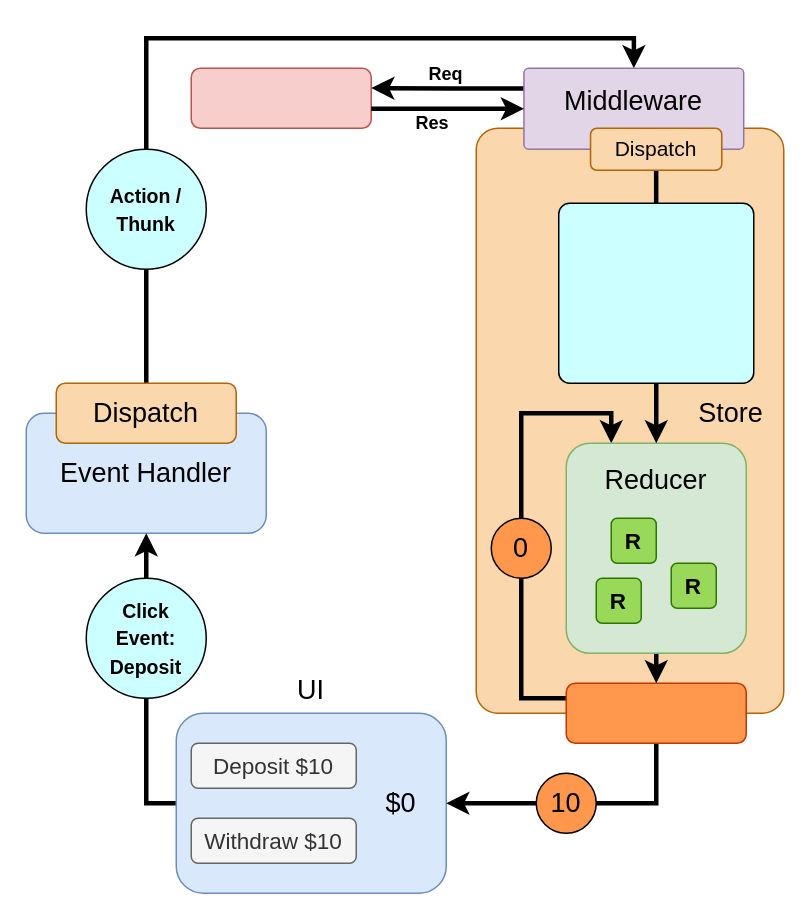
Some shapes in this 810 by 920 pixel diagram are drawn without their labels. Here are the shapes that lost their labels. From the top down, the centre of each, then its label:
point (280, 97): API
point (655, 292): Action { type: "deposit" payload: 10 }
point (655, 712): State
